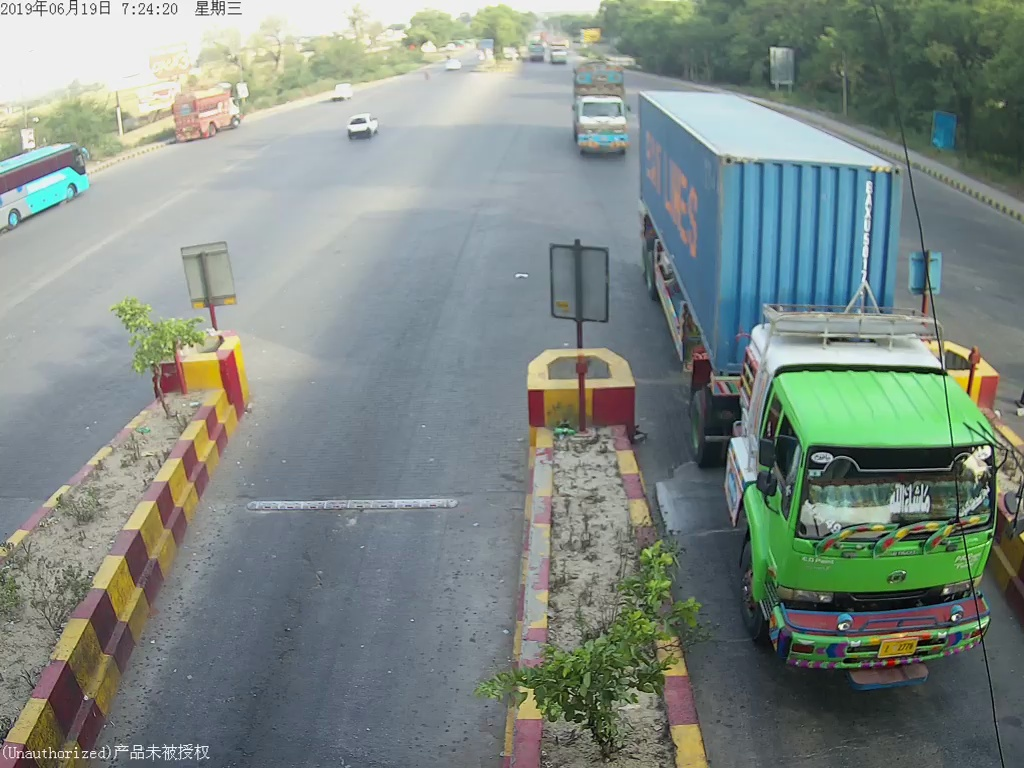Cat-5: (639, 85, 1000, 697)
